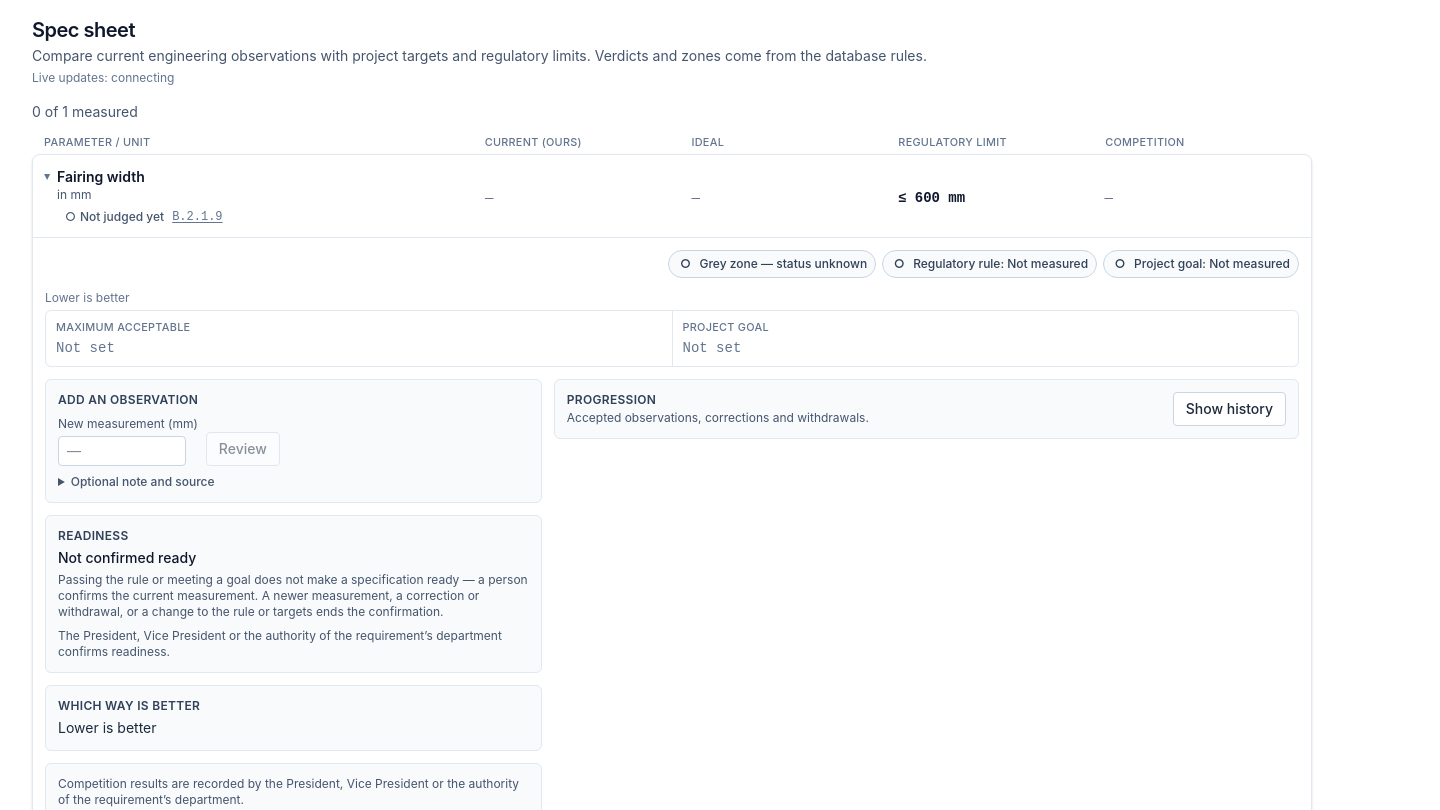
Test: Save measurement records exactly one observation › 612 against the 600 mm limit fails — and the verdict comes back from the view
Expected: the element with test id "regulatory-status-spec-fairing" shows "Not measured", [913, 256, 1088, 271]
Type "612" into the number field labelled "New measurement (mm)" at coordinates (122, 451), box [58, 436, 186, 466]
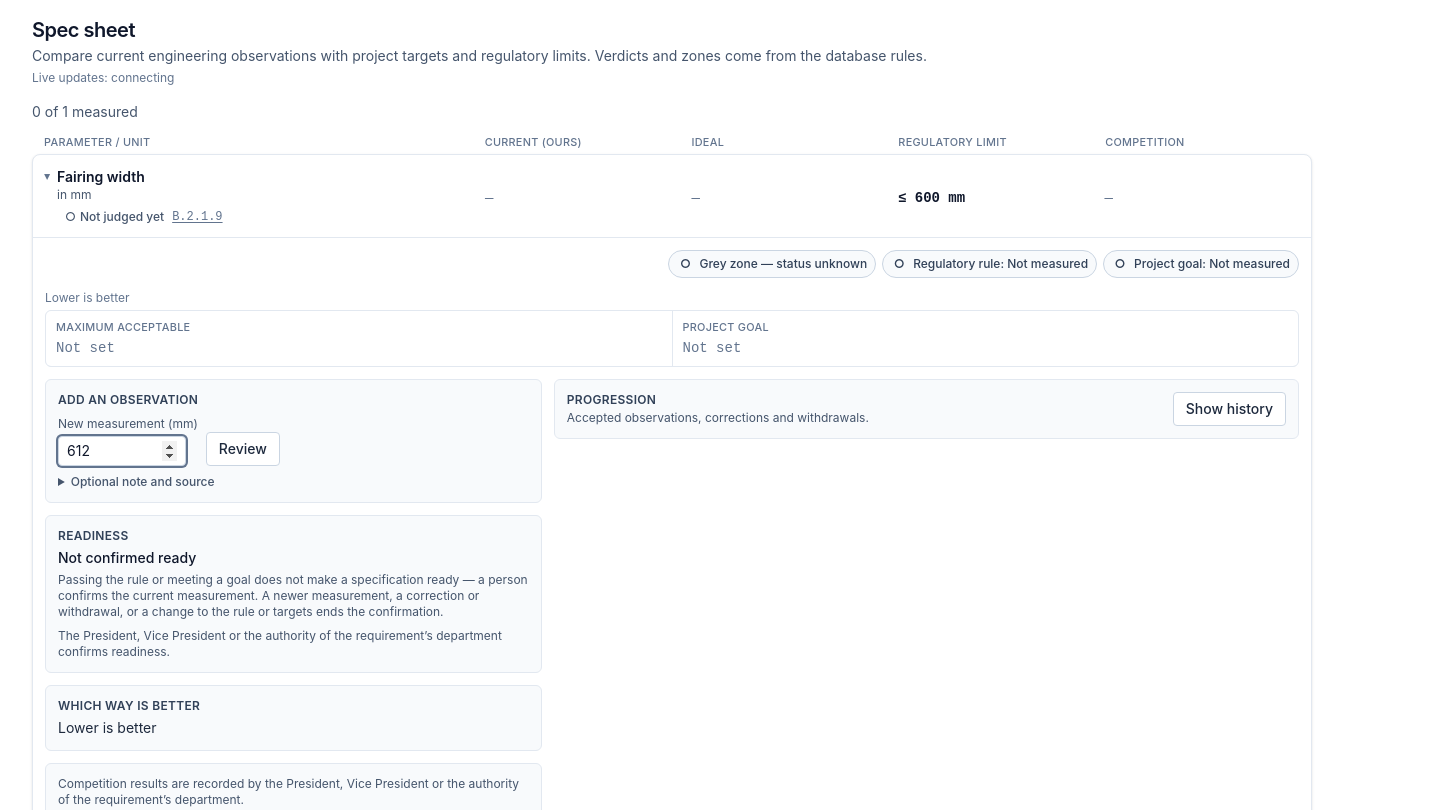
Click the button "Review" at coordinates (243, 449), box [206, 432, 280, 466]
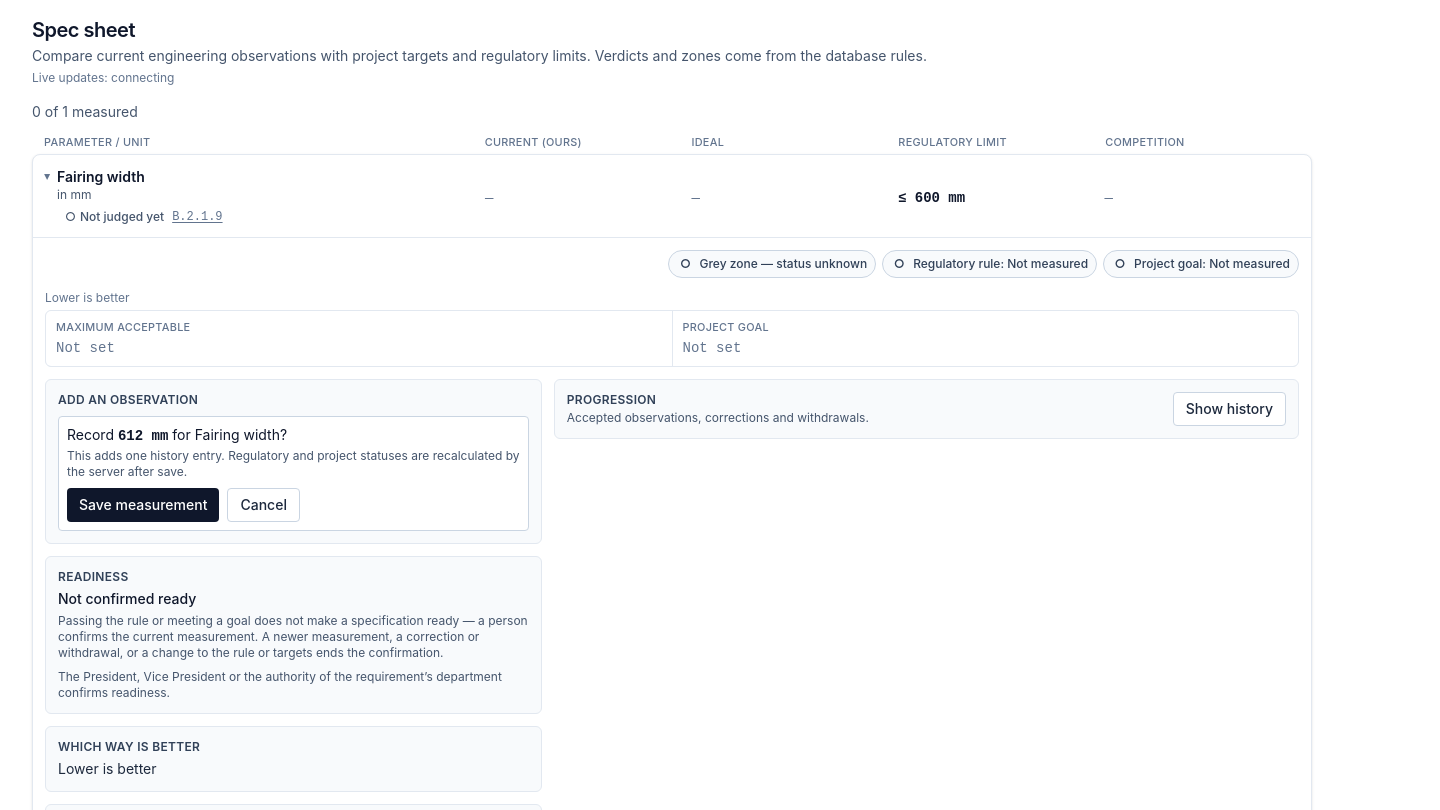
Click the button "Save measurement" at coordinates (143, 505), box [67, 488, 219, 522]
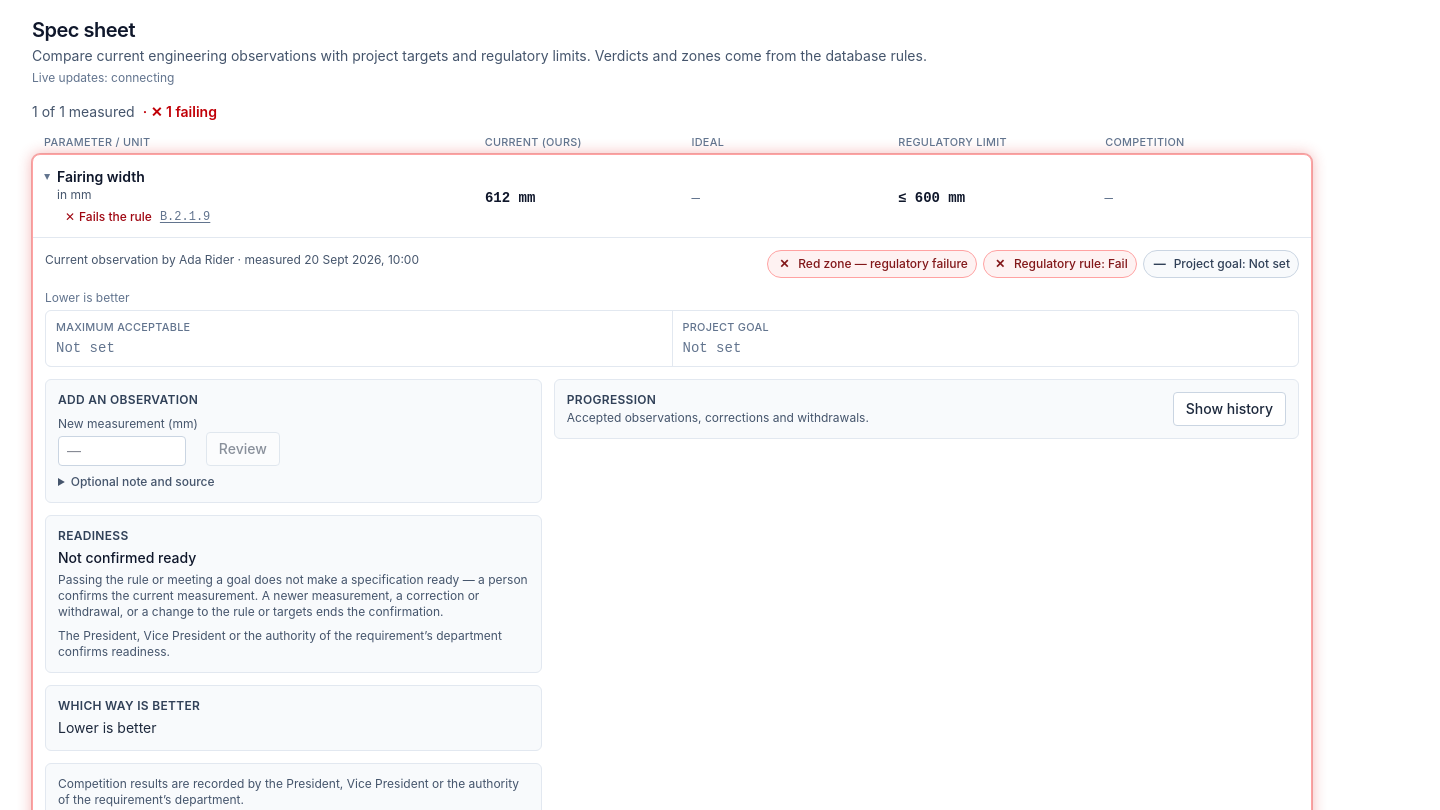
Expected: the element with test id "regulatory-status-spec-fairing" shows "Fail", [1014, 256, 1128, 271]
Expected: the number field labelled "New measurement (mm)" is not empty, [58, 436, 186, 466]
